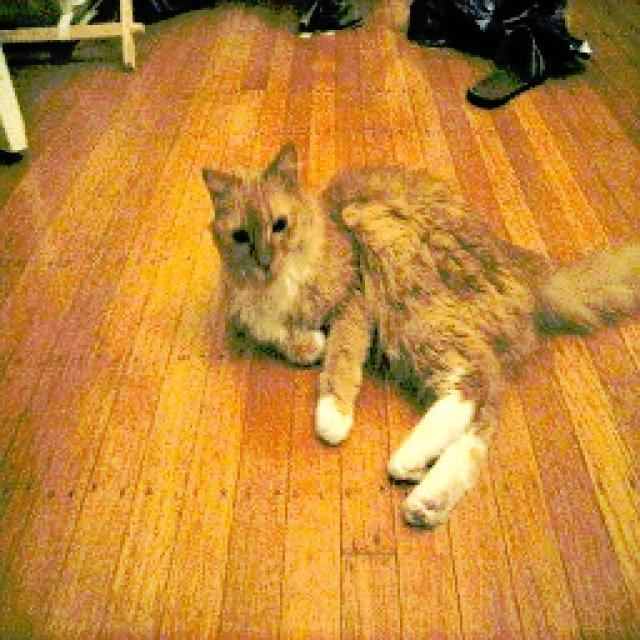cat: (183, 142, 640, 525)
